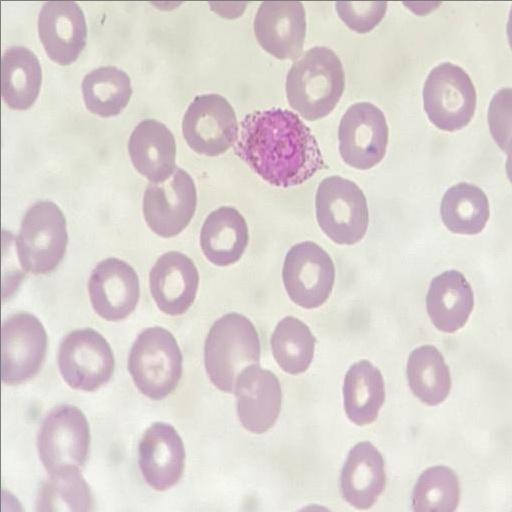Infected: (223, 106, 330, 188)
Uninfected: (206, 309, 261, 392), (286, 43, 343, 120), (34, 403, 90, 479), (16, 198, 71, 272), (127, 328, 180, 401), (423, 58, 475, 131), (144, 163, 195, 237), (284, 239, 335, 311), (0, 312, 48, 387), (59, 326, 114, 391), (136, 423, 187, 493), (316, 178, 369, 245), (336, 100, 386, 170), (231, 366, 284, 432), (186, 90, 239, 156), (423, 268, 475, 333), (127, 118, 179, 183), (341, 435, 386, 510), (87, 258, 140, 321), (39, 0, 88, 67), (150, 249, 199, 315), (256, 0, 310, 59), (0, 43, 43, 115), (273, 313, 318, 378), (440, 180, 491, 237), (344, 358, 388, 423), (201, 205, 247, 267), (81, 66, 132, 120), (407, 342, 450, 405), (407, 463, 461, 512)
